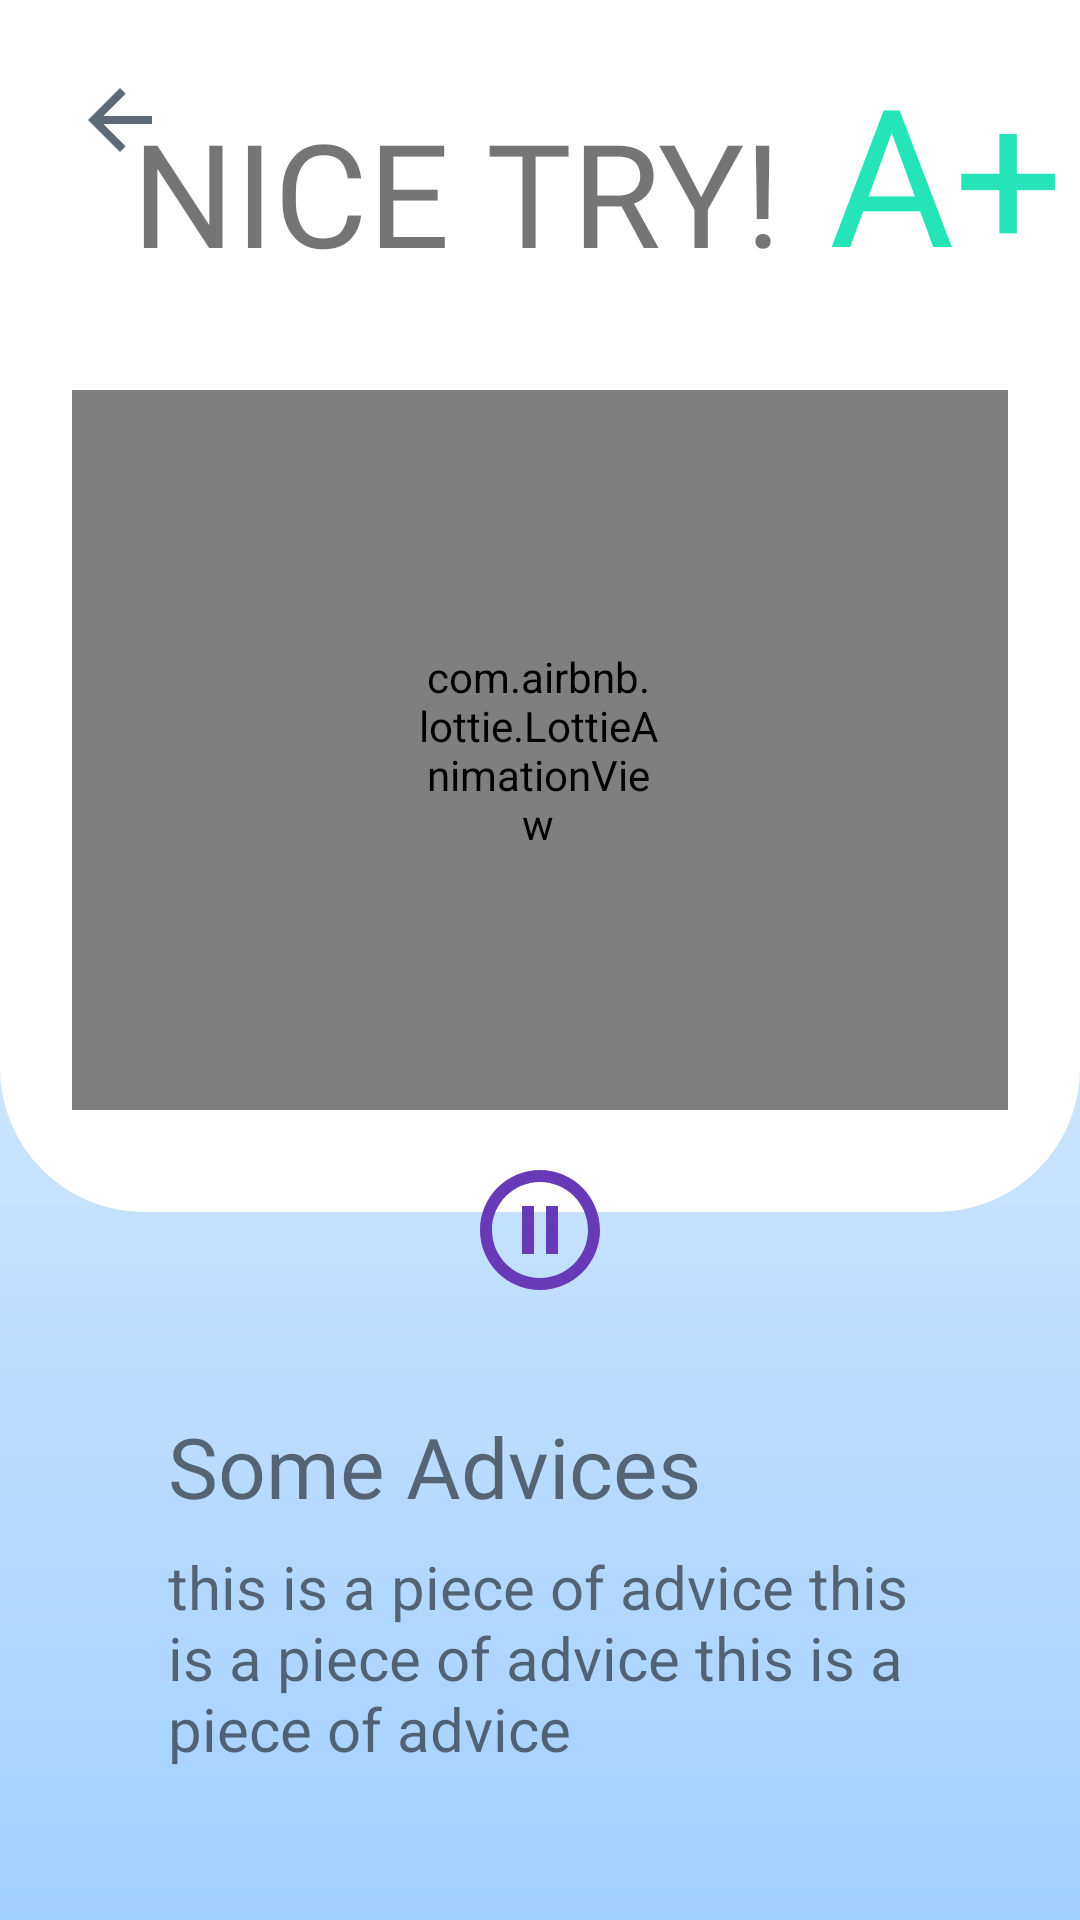

Where to tap for icons on this 1080×1920 app screen, as (x,y):
arrow back: (120,120)
pause circle: (540,1230)
